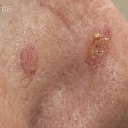Actinic: (84, 30, 110, 67), (18, 41, 39, 76)
